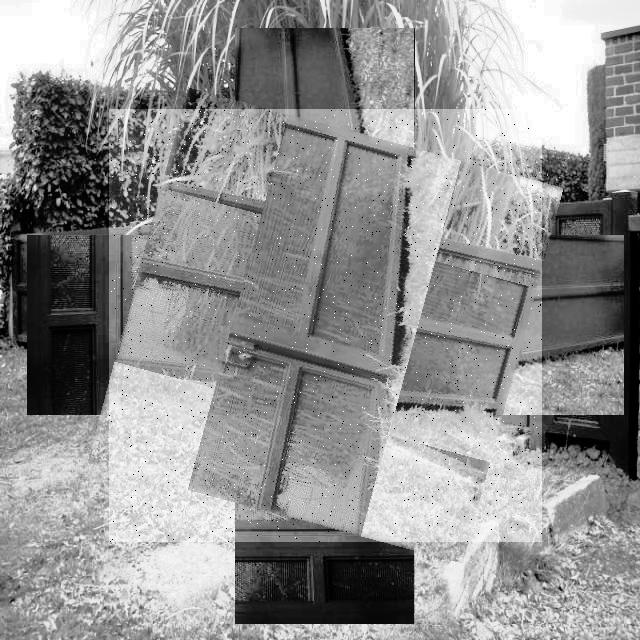fences: (109, 109, 542, 542)
